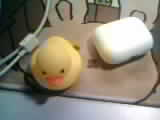duck: (28, 34, 85, 92)
